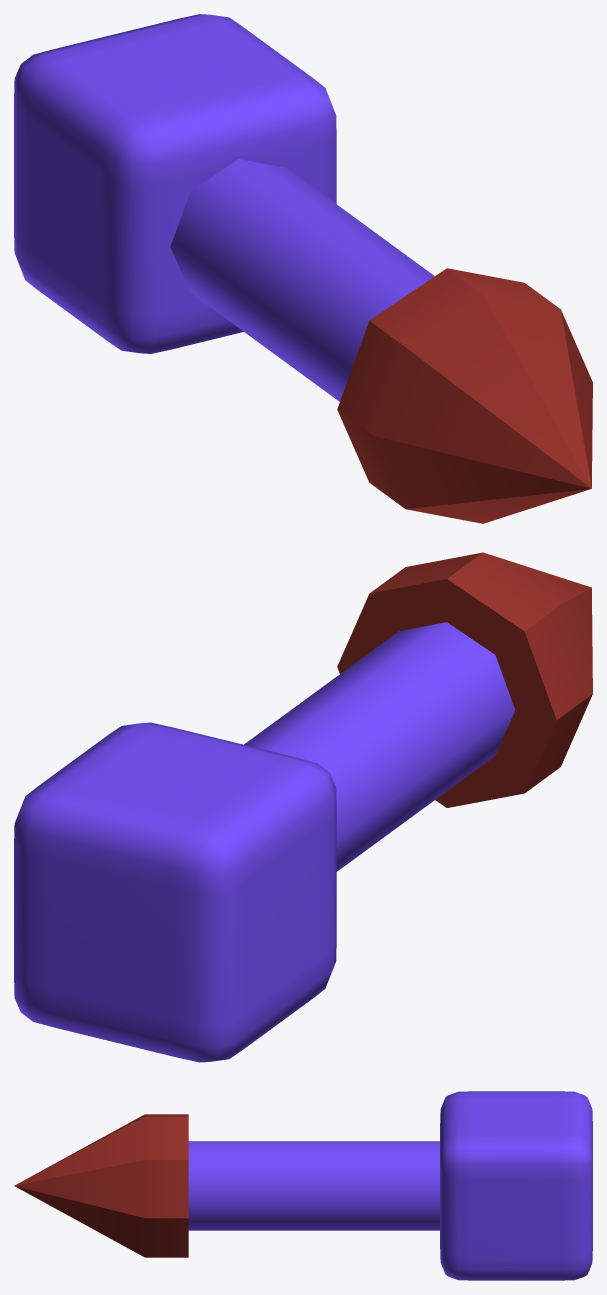
The model's file is Direction Arrow.fbx.
3 renders of one model, top to bottom at view 1: azimuth 30°, elevation 25°; view 2: azimuth 150°, elevation 25°; view 3: azimuth 270°, elevation 25°, orthographic. The views are drawn at different scales.
Visible parts, largest first — view 1: Group1, Group3, Group2; view 2: Group1, Group2, Group3; view 3: Group1, Group2, Group3.
Part boxes in pixels (<box>): Group1: <box>14,14,336,353</box>; Group3: <box>337,268,592,523</box>; Group2: <box>170,159,434,401</box>; Group1: <box>14,722,336,1062</box>; Group2: <box>244,622,515,871</box>; Group3: <box>337,552,592,807</box>; Group1: <box>440,1091,592,1280</box>; Group2: <box>188,1141,439,1230</box>; Group3: <box>14,1114,188,1257</box>.
Bounding box in the file's own units: 0.7 × 0.6991 × 2.65.
